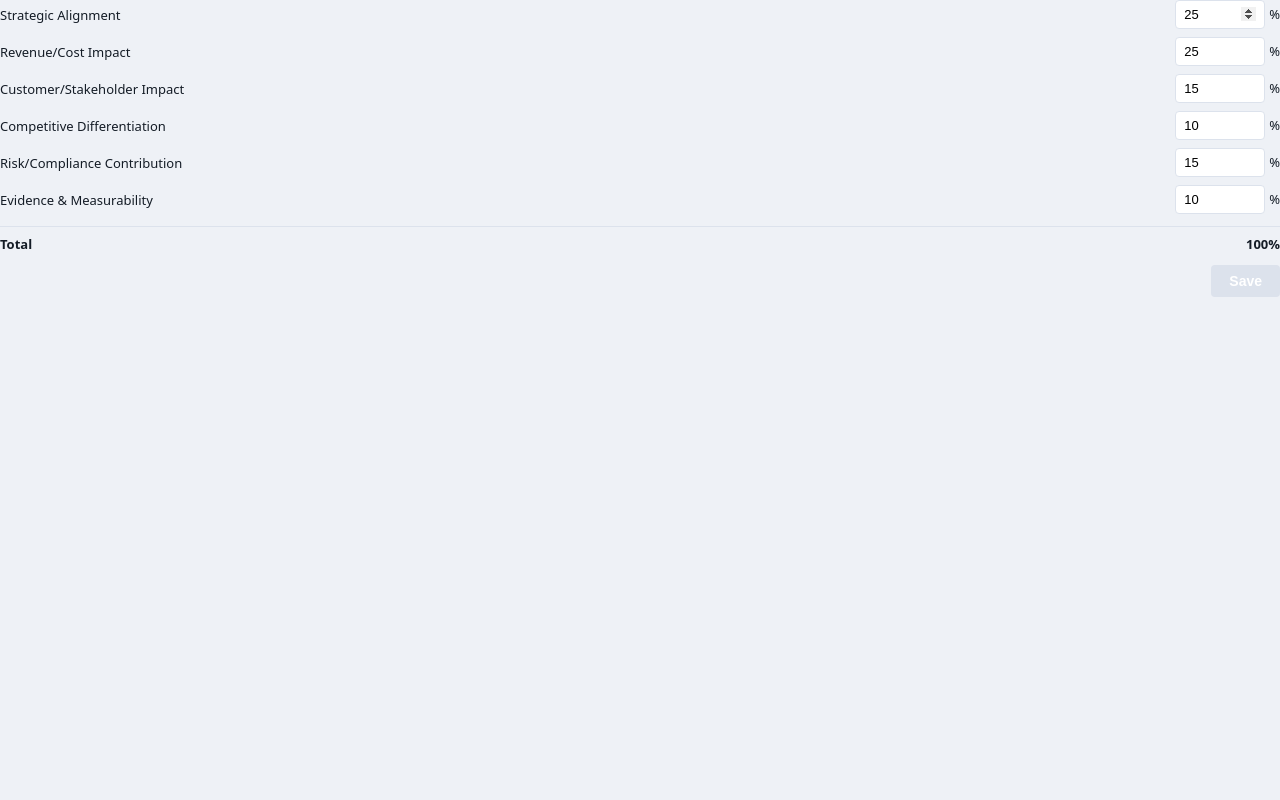
it: RubricEditor › shows a reload option on a 409 version conflict, not a generic error
Replace the text in the number field labelled "Strategic Alignment %" with "35" at [1220, 14], box x1=1175 y1=0 x2=1265 y2=29
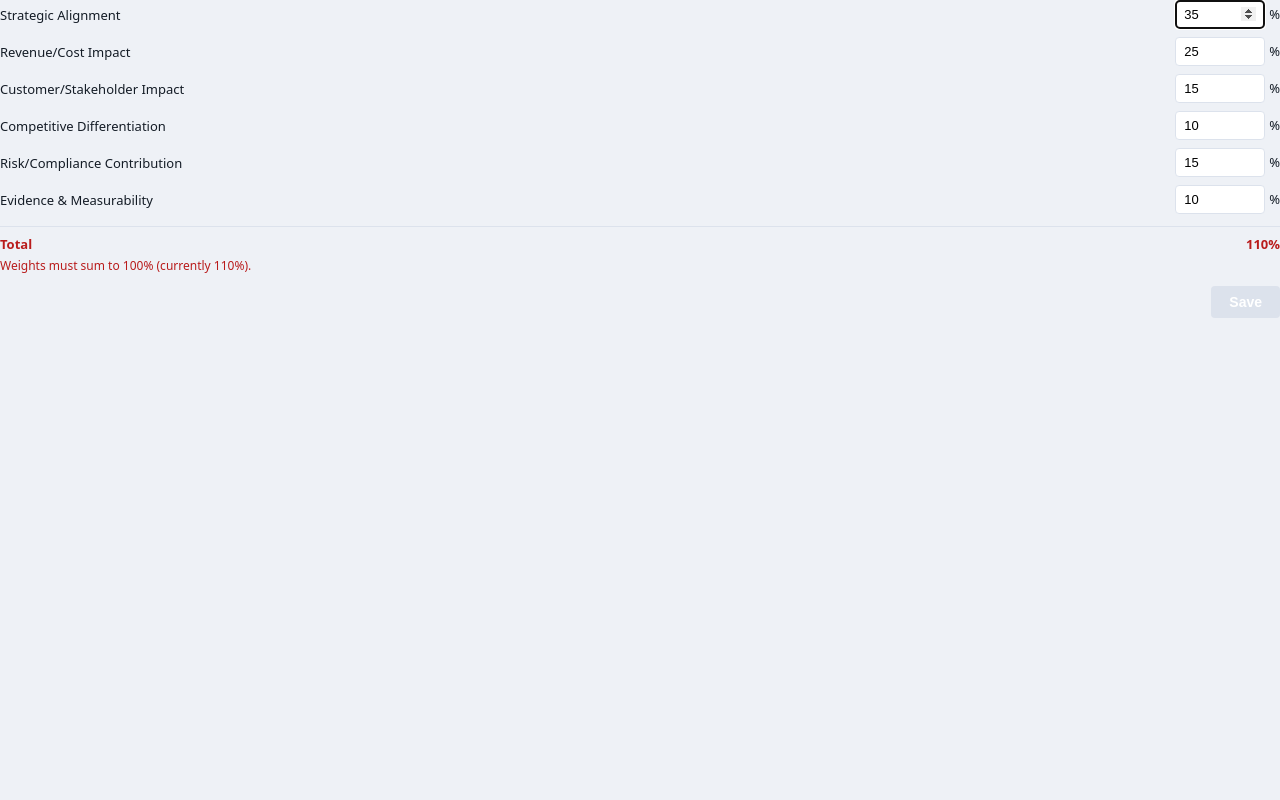
Replace the text in the number field labelled "Revenue/Cost Impact %" with "15" at [1220, 52], box x1=1175 y1=37 x2=1265 y2=66
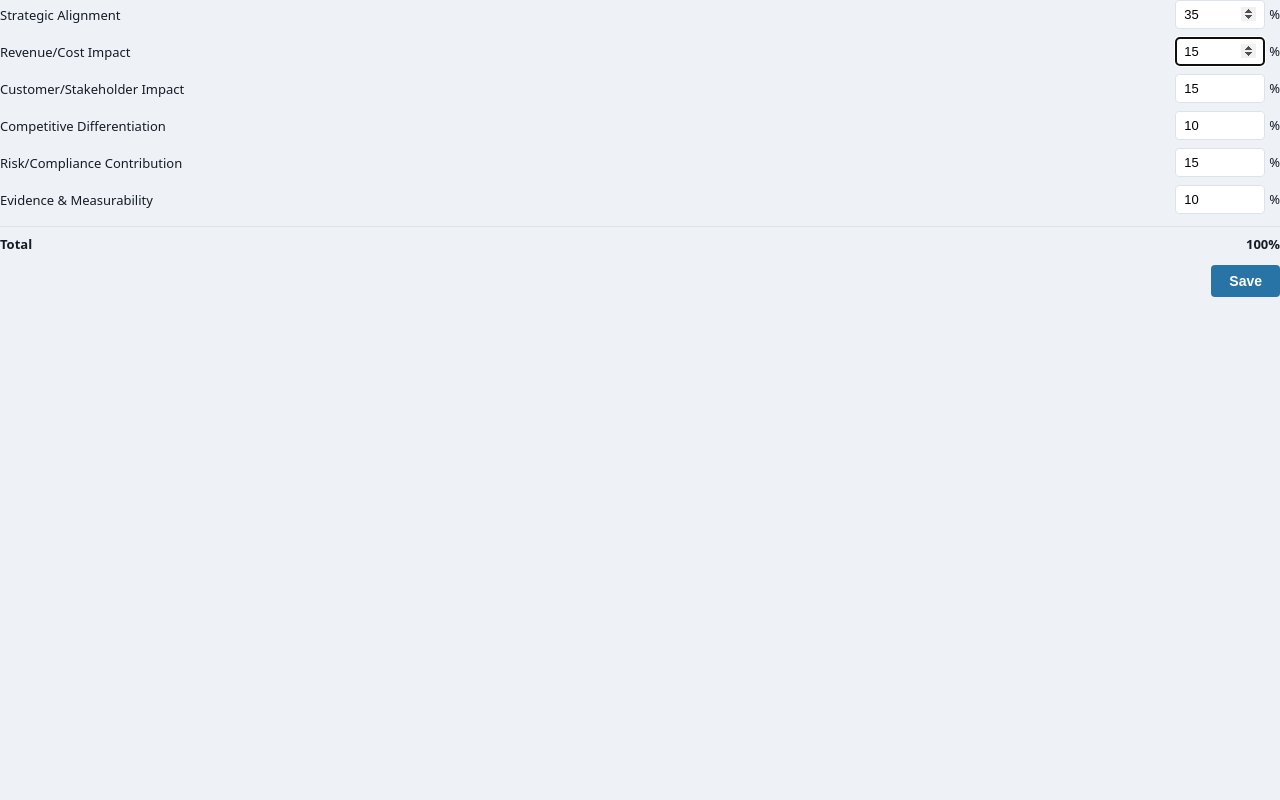
Click the button "Save" at [1246, 281], box x1=1211 y1=265 x2=1279 y2=297
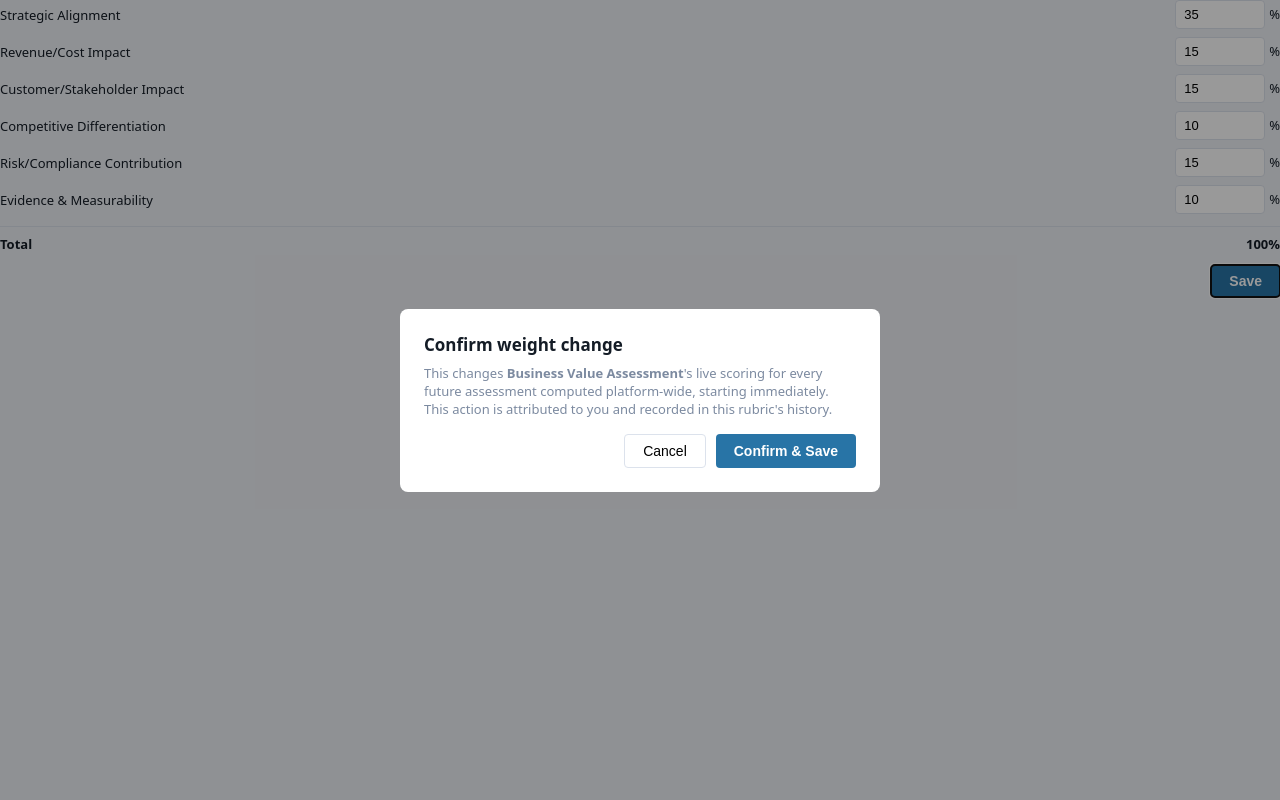
Click the button "Confirm & Save" at [786, 450], box x1=716 y1=434 x2=856 y2=468
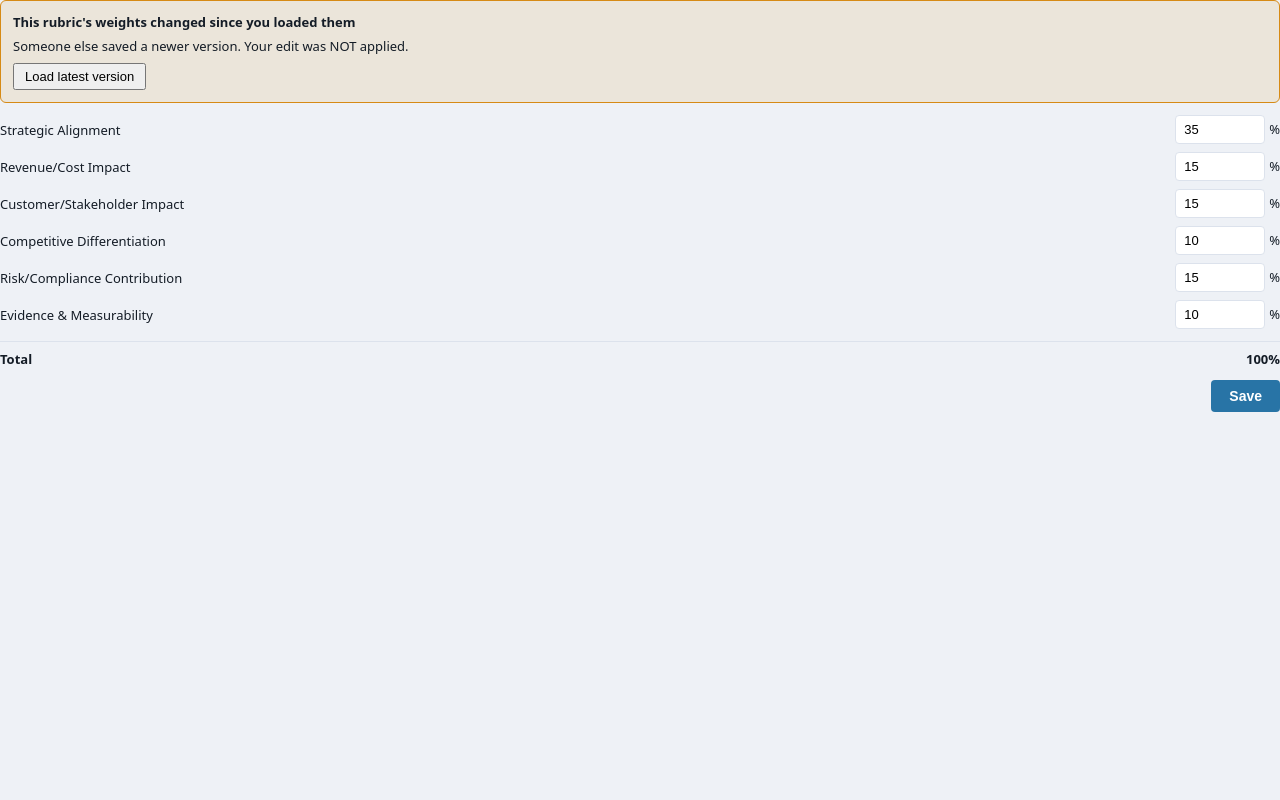
Now the text "This rubric's weights changed since you loaded them" is shown, box x1=13 y1=13 x2=356 y2=31
Now the button "Load latest version" is shown, box x1=13 y1=63 x2=146 y2=90
